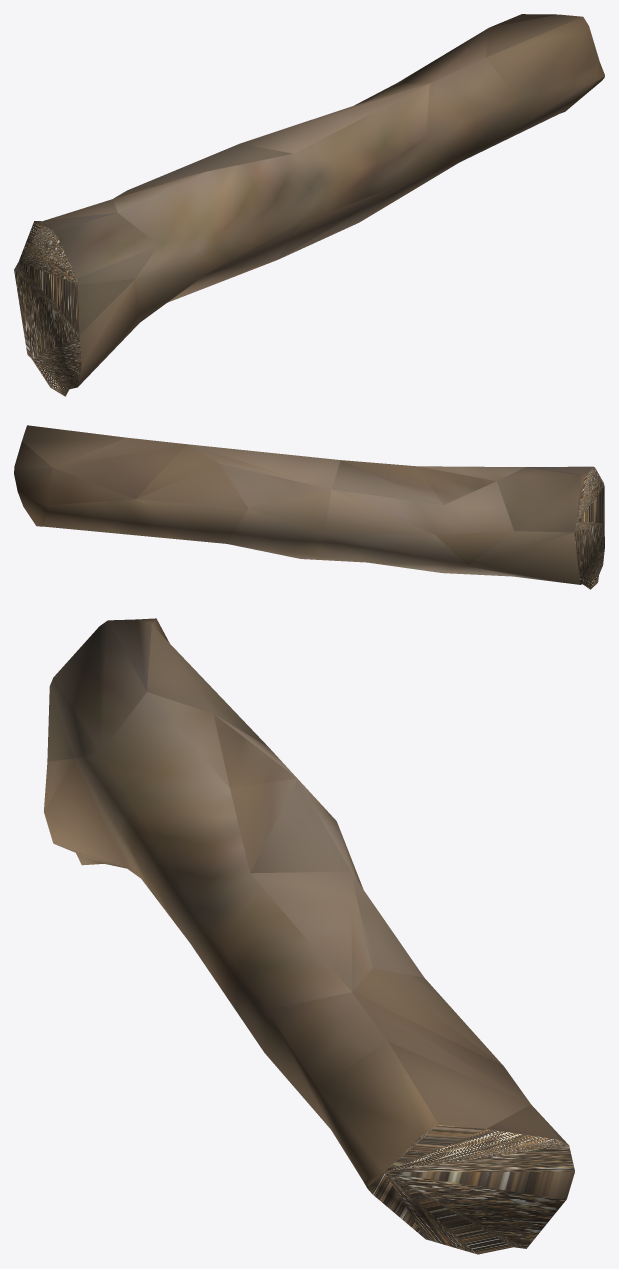
The model's file is Sungaya_inexpectata_31mg.046.obj.
3 views of the same model, one above another, from view 1: azimuth 30°, elevation 25°; view 2: azimuth 150°, elevation 25°; view 3: azimuth 270°, elevation 25° (orthographic). The views are drawn at different scales.
Visible parts, largest first — view 1: 45-h-r-tarsus_Sungaya_inexpectata_31mg.046; view 2: 45-h-r-tarsus_Sungaya_inexpectata_31mg.046; view 3: 45-h-r-tarsus_Sungaya_inexpectata_31mg.046.
Boxes of the visible parts, x1,y1,x2,y2 form: 45-h-r-tarsus_Sungaya_inexpectata_31mg.046: (14,14,604,396); 45-h-r-tarsus_Sungaya_inexpectata_31mg.046: (14,425,604,589); 45-h-r-tarsus_Sungaya_inexpectata_31mg.046: (44,618,574,1254).
Bounding box in the file's own units: 0.000954 × 0.000226 × 0.000448.
Materials: 1 (1 with a texture image).
